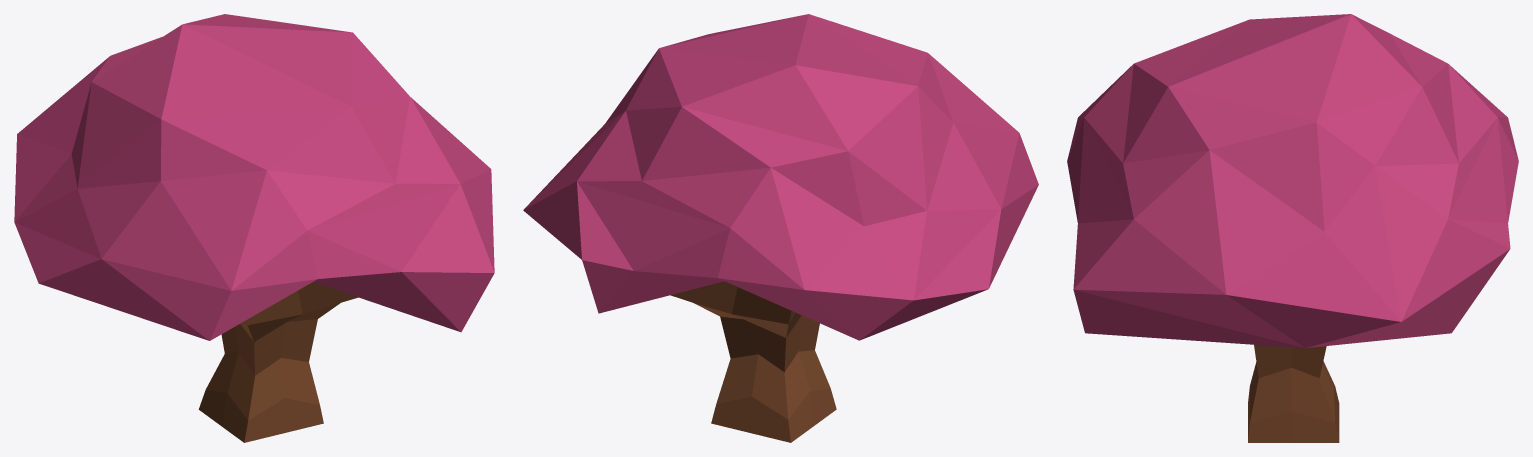
File: Tree_34_Pink.fbx
3 views of the same model, side by side, from view 1: azimuth 30°, elevation 25°; view 2: azimuth 150°, elevation 25°; view 3: azimuth 270°, elevation 25° (orthographic).
Visible parts, largest first — view 1: Tree_34_Pink_Part_1, Tree_34_Pink_Part_2; view 2: Tree_34_Pink_Part_1, Tree_34_Pink_Part_2; view 3: Tree_34_Pink_Part_1, Tree_34_Pink_Part_2.
Part boxes in pixels (<box>): Tree_34_Pink_Part_1: <box>14,14,494,340</box>; Tree_34_Pink_Part_2: <box>198,282,358,442</box>; Tree_34_Pink_Part_1: <box>523,14,1038,340</box>; Tree_34_Pink_Part_2: <box>670,281,836,442</box>; Tree_34_Pink_Part_1: <box>1067,14,1518,348</box>; Tree_34_Pink_Part_2: <box>1248,344,1339,442</box>.
Bounding box in the file's own units: 804 × 710 × 755.
